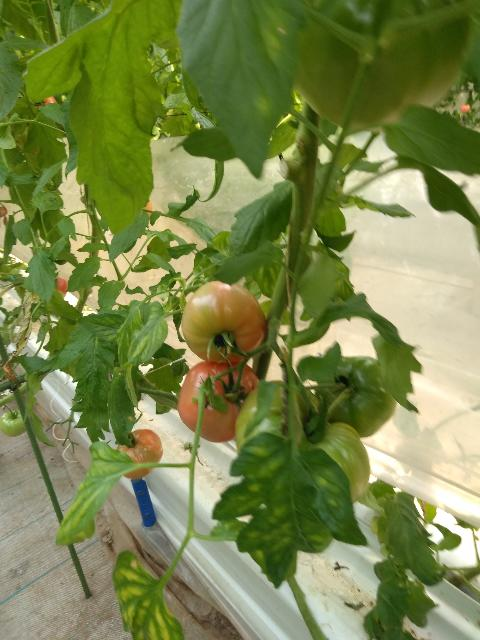b_green: (293, 1, 473, 131), (234, 380, 371, 504), (315, 356, 397, 438), (0, 409, 27, 437)
b_half_ripened: (182, 281, 267, 364), (178, 361, 261, 443), (116, 429, 163, 479)
